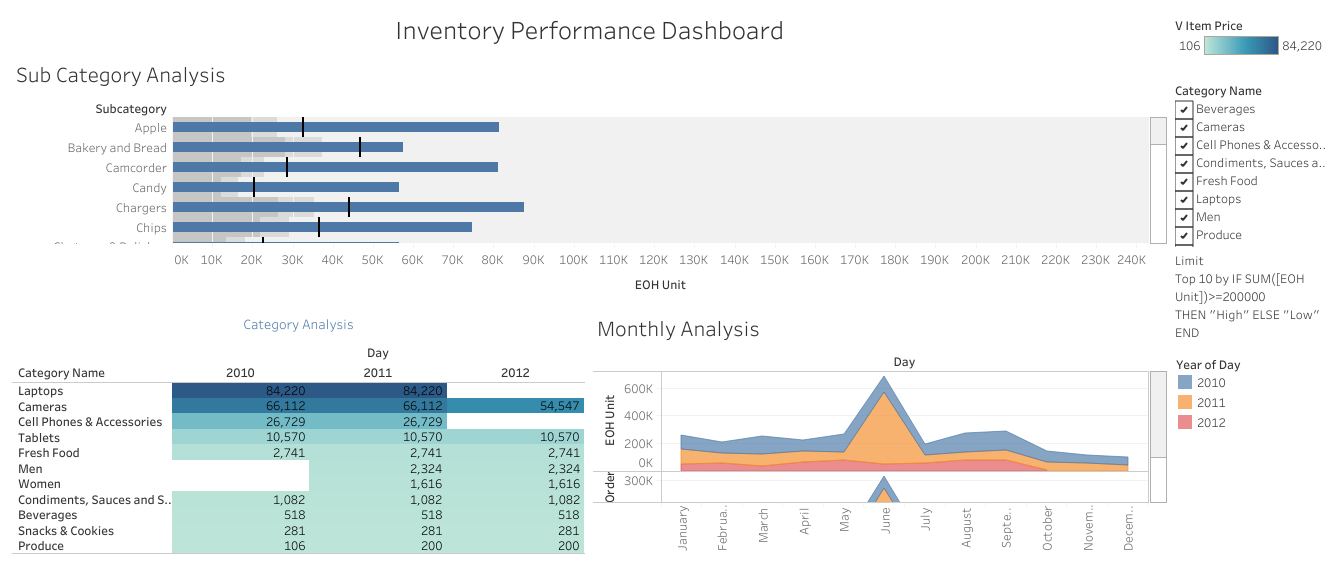

Layout of this report page (visuals, bound fields, positions):
{"tool":"tableau","page":{"name":"Dashboard 1","canvas":[1000,1000],"units":"permille","ordinal":0},"visuals":[{"type":"title","box":[7,15.4,846,81.1]},{"type":"legend","title":"Category Analysis","param":"[federated.141z0li0873u5215ww2j50sn12un].[sum:V_Item_Price:qk]","box":[853,15.4,140,131.3]},{"type":"worksheet","title":"Sub Category Analysis","mark":"Automatic","rows":["SUBCATEGORY"],"cols":["EOH_Unit"],"box":[7,96.5,846,444]},{"type":"filter","title":"Sub Category Analysis","param":"[federated.141z0li0873u5215ww2j50sn12un].[none:CATEGORY_NAME:nk]","box":[853,146.7,140,527]},{"type":"worksheet","title":"Category Analysis","mark":"Square","rows":["CATEGORY_NAME"],"cols":["Day"],"box":[7,540.5,423,444]},{"type":"worksheet","title":"Monthly Analysis","mark":"Area","rows":["EOH_Unit","On_Order"],"cols":["Day"],"box":[430,540.5,423,444]},{"type":"legend","title":"Monthly Analysis","param":"[federated.141z0li0873u5215ww2j50sn12un].[yr:Day:ok]","box":[853,673.7,140,168]}]}

Visuals, with their boxes on the dashboard's canvas, which has no fixed pixel size, in thousandths of its width and height (x1, y1, x2, y2). These are canvas units, not pixel positions in the 1338x565 screenshot, which may show the page scaled, cropped or inside an application window:
title: 7,15,853,96
"Category Analysis" legend: 853,15,993,147
"Sub Category Analysis" worksheet: 7,96,853,540
"Sub Category Analysis" filter: 853,147,993,674
"Category Analysis" worksheet (Square marks): 7,540,430,984
"Monthly Analysis" worksheet (Area marks): 430,540,853,984
"Monthly Analysis" legend: 853,674,993,842
